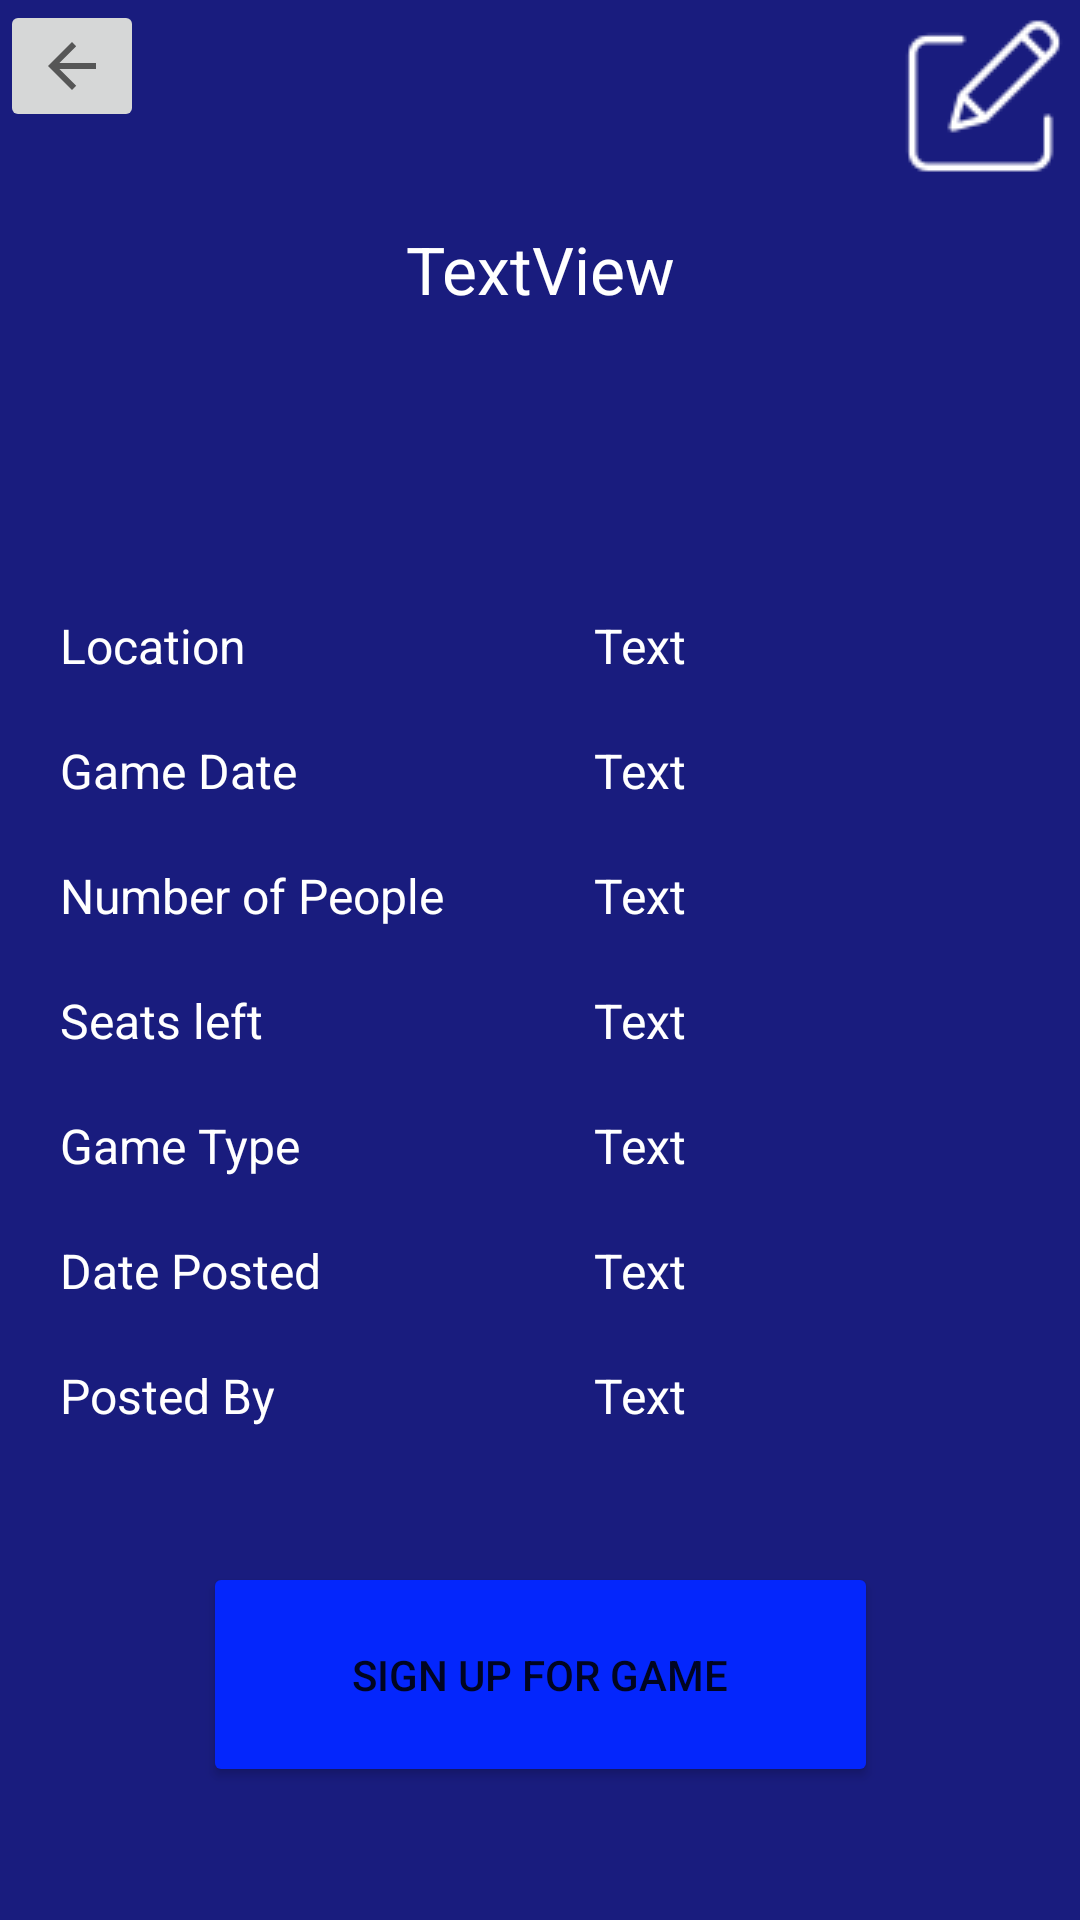

Where icons sit on this 1080×1920 app screen, as (x1, y1, x2, y2):
edit: (908, 20, 1060, 172)
